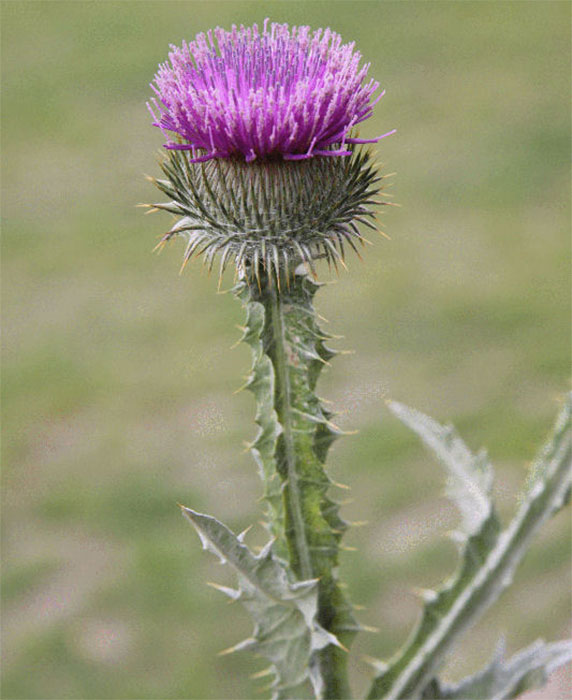thistle: (140, 23, 410, 273)
